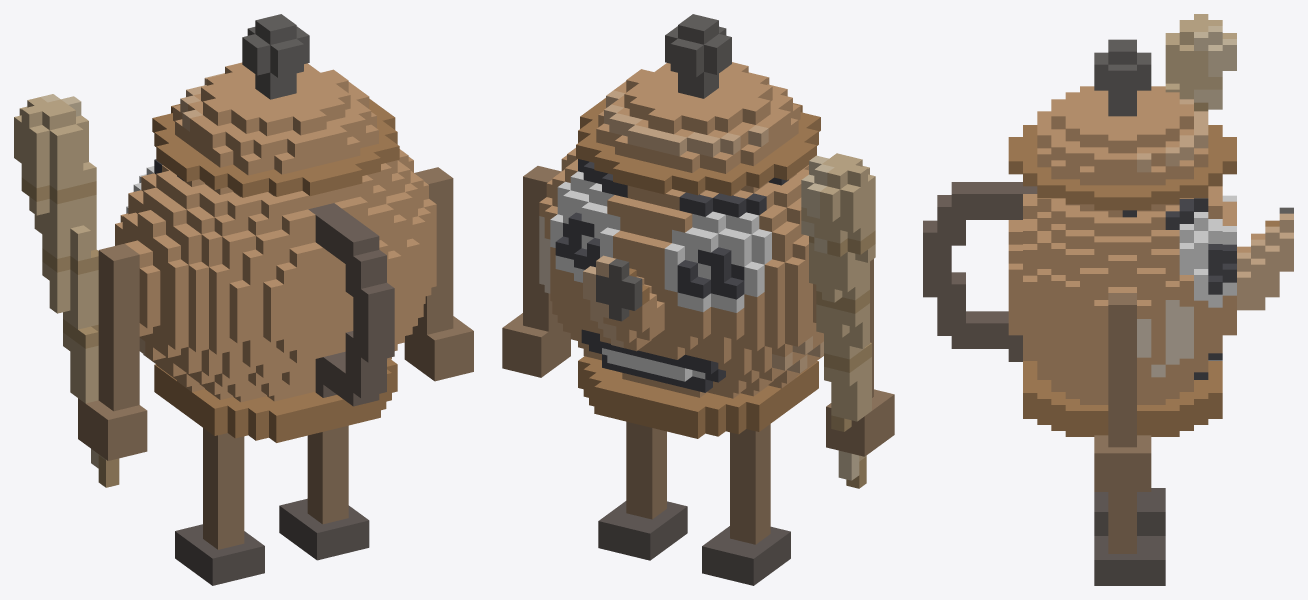
Rendered from TaTaTaTaSahur.glb.
The picture shows the model from 3 angles, left to right: view 1: azimuth 30°, elevation 25°; view 2: azimuth 150°, elevation 25°; view 3: azimuth 270°, elevation 25°; orthographic projection. The views are drawn at different scales.
Visible parts, largest first — view 1: geometry_0; view 2: geometry_0; view 3: geometry_0.
Boxes of the visible parts, box(x1,y1,x2,y2) form: geometry_0: box(14, 14, 473, 585); geometry_0: box(502, 14, 894, 585); geometry_0: box(923, 14, 1293, 585).
Bounding box in the file's own units: 0.7692 × 1 × 0.6667.
